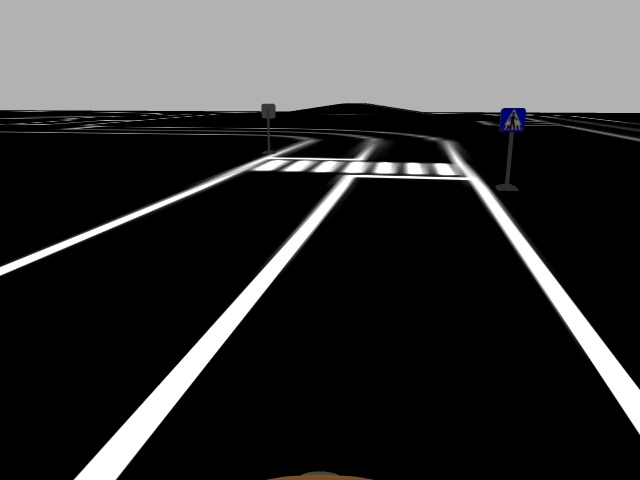crosswalk: (498, 105, 529, 134)
